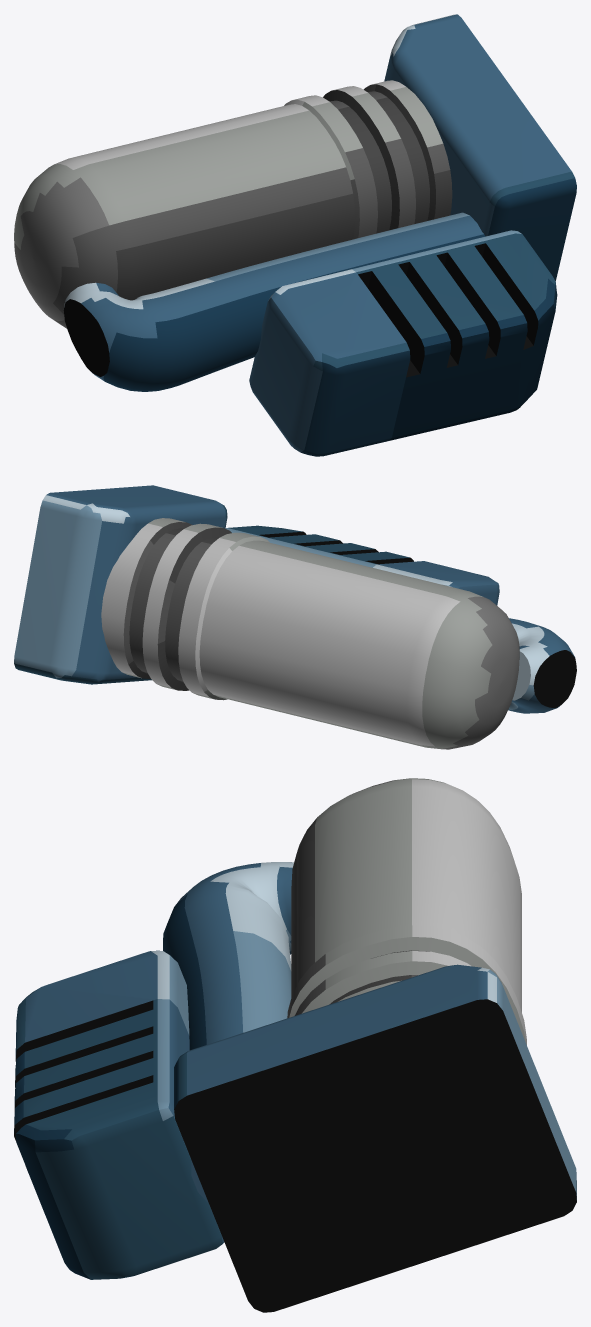
Rendered from deli_cannon_breech.glb.
The picture shows the model from 3 angles, top to bottom: view 1: azimuth 30°, elevation 25°; view 2: azimuth 150°, elevation 25°; view 3: azimuth 270°, elevation 25°; orthographic projection. The views are drawn at different scales.
Parts seen in each view (by area): view 1: breech.001, fin_block.001, handle.001, rear_block.001; view 2: breech.001, rear_block.001, fin_block.001, handle.001; view 3: rear_block.001, fin_block.001, breech.001, handle.001.
Part boxes in pixels (x1,y1,x2,y2): breech.001: (14,80,452,328); fin_block.001: (249,230,557,456); handle.001: (63,212,485,391); rear_block.001: (384,14,576,281); breech.001: (101,518,519,749); rear_block.001: (14,485,227,684); fin_block.001: (225,525,499,605); handle.001: (508,618,576,713); rear_block.001: (174,964,576,1312); fin_block.001: (14,950,224,1279); breech.001: (287,778,526,1044); handle.001: (163,862,293,1203).
Size of the model in its own units: 24 by 12.88 by 19.51.
